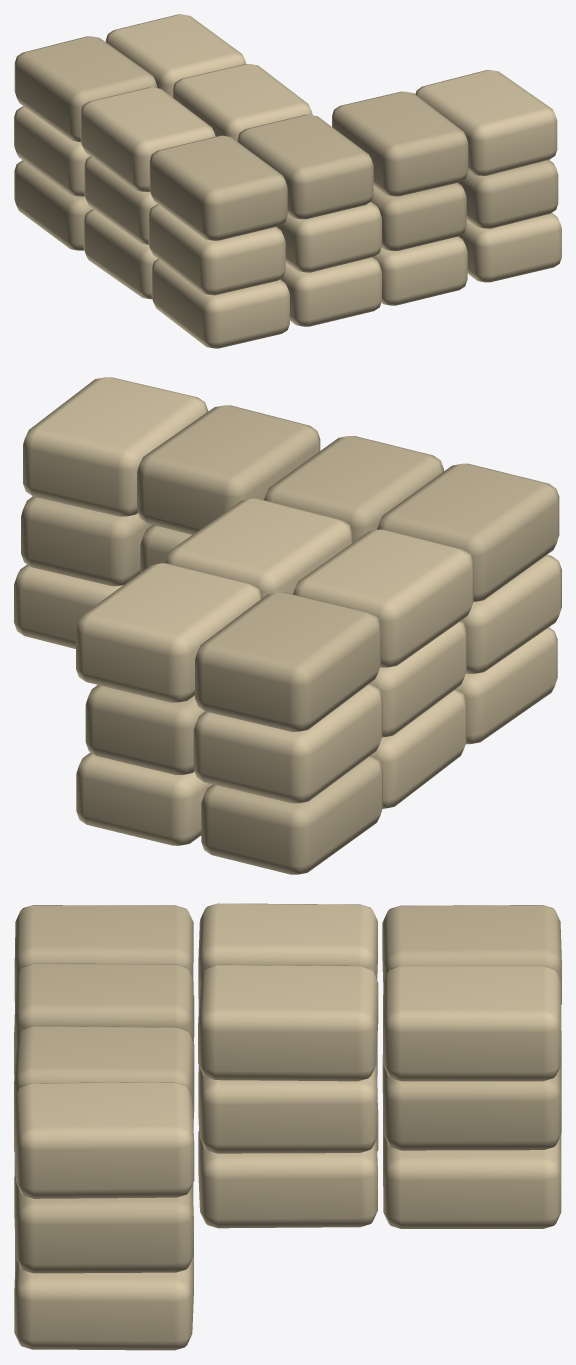
File: JPN-10.glb
3 renders of one model, top to bottom at view 1: azimuth 30°, elevation 25°; view 2: azimuth 150°, elevation 25°; view 3: azimuth 270°, elevation 25°, orthographic. The views are drawn at different scales.
Visible parts, largest first — view 1: handmade block.016, handmade block.022, handmade block.023, handmade block.019, handmade block.018, handmade block.017, handmade block.008, handmade block, handmade block.020, handmade block.021, handmade block.011, handmade block.007 (+8 smaller); view 2: handmade block.018, handmade block.021, handmade block.023, handmade block.022, handmade block.017, handmade block.016, handmade block.010, handmade block.002, handmade block.020, handmade block.019, handmade block.005, handmade block.015 (+7 smaller); view 3: handmade block.023, handmade block.020, handmade block.021, handmade block.005, handmade block.007, handmade block.015, handmade block.004, handmade block.012, handmade block.013, handmade block.019, handmade block.017, handmade block.018 (+2 smaller).
Boxes of the visible parts, left/top/right/bottom form: handmade block.016: left=149, top=135, right=287, bottom=240; handmade block.022: left=332, top=91, right=468, bottom=196; handmade block.023: left=415, top=70, right=557, bottom=175; handmade block.019: left=237, top=114, right=373, bottom=219; handmade block.018: left=14, top=36, right=157, bottom=142; handmade block.017: left=80, top=87, right=215, bottom=191; handmade block.008: left=148, top=204, right=285, bottom=295; handmade block: left=151, top=259, right=289, bottom=348; handmade block.020: left=172, top=64, right=312, bottom=141; handmade block.021: left=105, top=14, right=246, bottom=96; handmade block.011: left=277, top=202, right=381, bottom=272; handmade block.007: left=459, top=213, right=561, bottom=282; handmade block.018: left=195, top=592, right=380, bottom=731; handmade block.021: left=76, top=563, right=262, bottom=702; handmade block.023: left=23, top=377, right=208, bottom=516; handmade block.022: left=137, top=405, right=320, bottom=534; handmade block.017: left=293, top=529, right=473, bottom=667; handmade block.016: left=377, top=463, right=559, bottom=602; handmade block.010: left=193, top=684, right=382, bottom=803; handmade block.002: left=201, top=755, right=382, bottom=874; handmade block.020: left=165, top=498, right=352, bottom=597; handmade block.019: left=264, top=436, right=443, bottom=542; handmade block.005: left=76, top=752, right=212, bottom=845; handmade block.015: left=21, top=496, right=152, bottom=586; handmade block.023: left=14, top=1082, right=194, bottom=1198; handmade block.020: left=198, top=964, right=378, bottom=1081; handmade block.021: left=383, top=966, right=561, bottom=1081; handmade block.005: left=383, top=1129, right=561, bottom=1228; handmade block.007: left=14, top=1256, right=193, bottom=1350; handmade block.015: left=14, top=1175, right=193, bottom=1273; handmade block.004: left=198, top=1130, right=377, bottom=1228; handmade block.012: left=198, top=1058, right=377, bottom=1153; handmade block.013: left=382, top=1055, right=561, bottom=1150; handmade block.019: left=14, top=963, right=193, bottom=1059; handmade block.017: left=198, top=903, right=377, bottom=1000; handmade block.018: left=382, top=905, right=561, bottom=1004.
Size of the model in its own units: 1.93 by 0.815 by 1.85.
